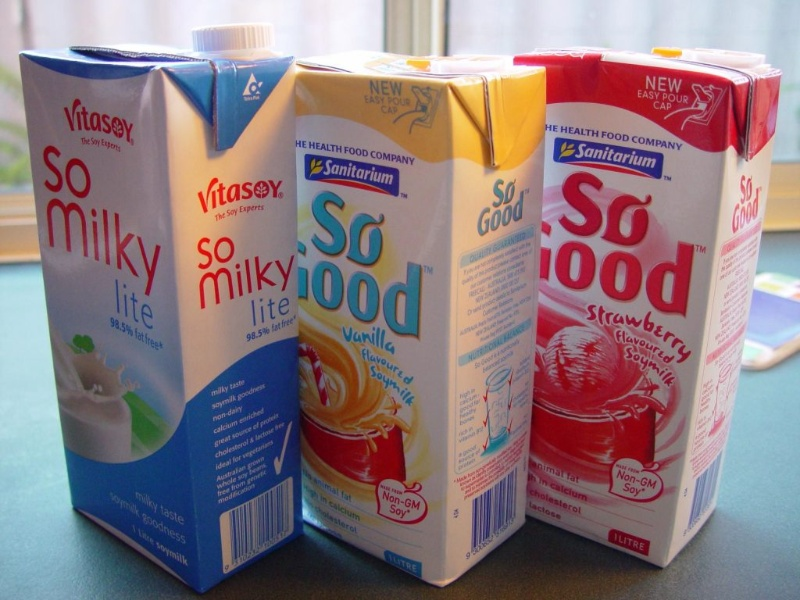milk: (4, 21, 335, 595), (273, 44, 548, 593), (505, 35, 772, 588)
